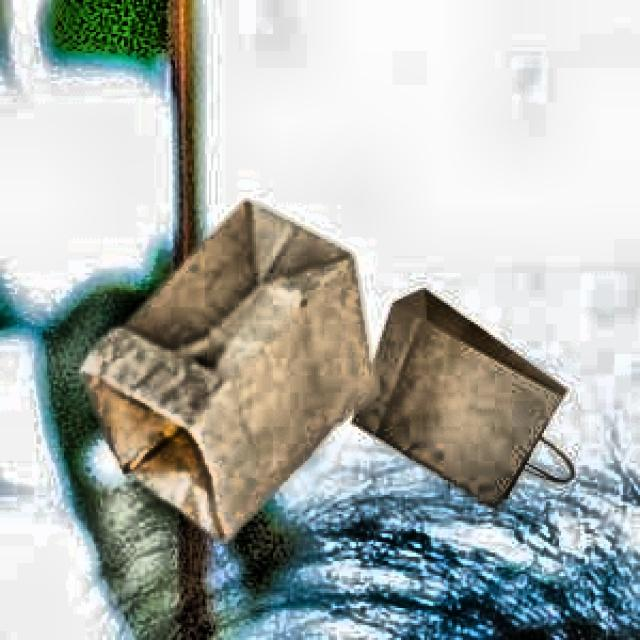Paper-bag: (68, 191, 384, 536), (360, 289, 592, 512)
